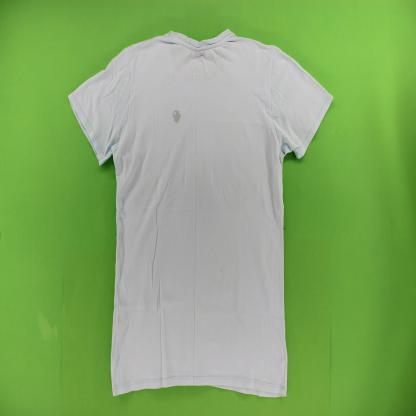stain: (171, 108, 182, 125)
